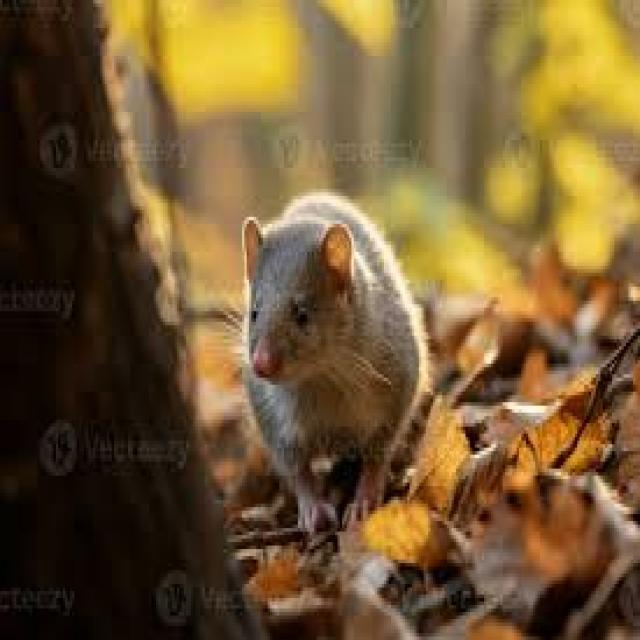Rat: (208, 134, 436, 543)
